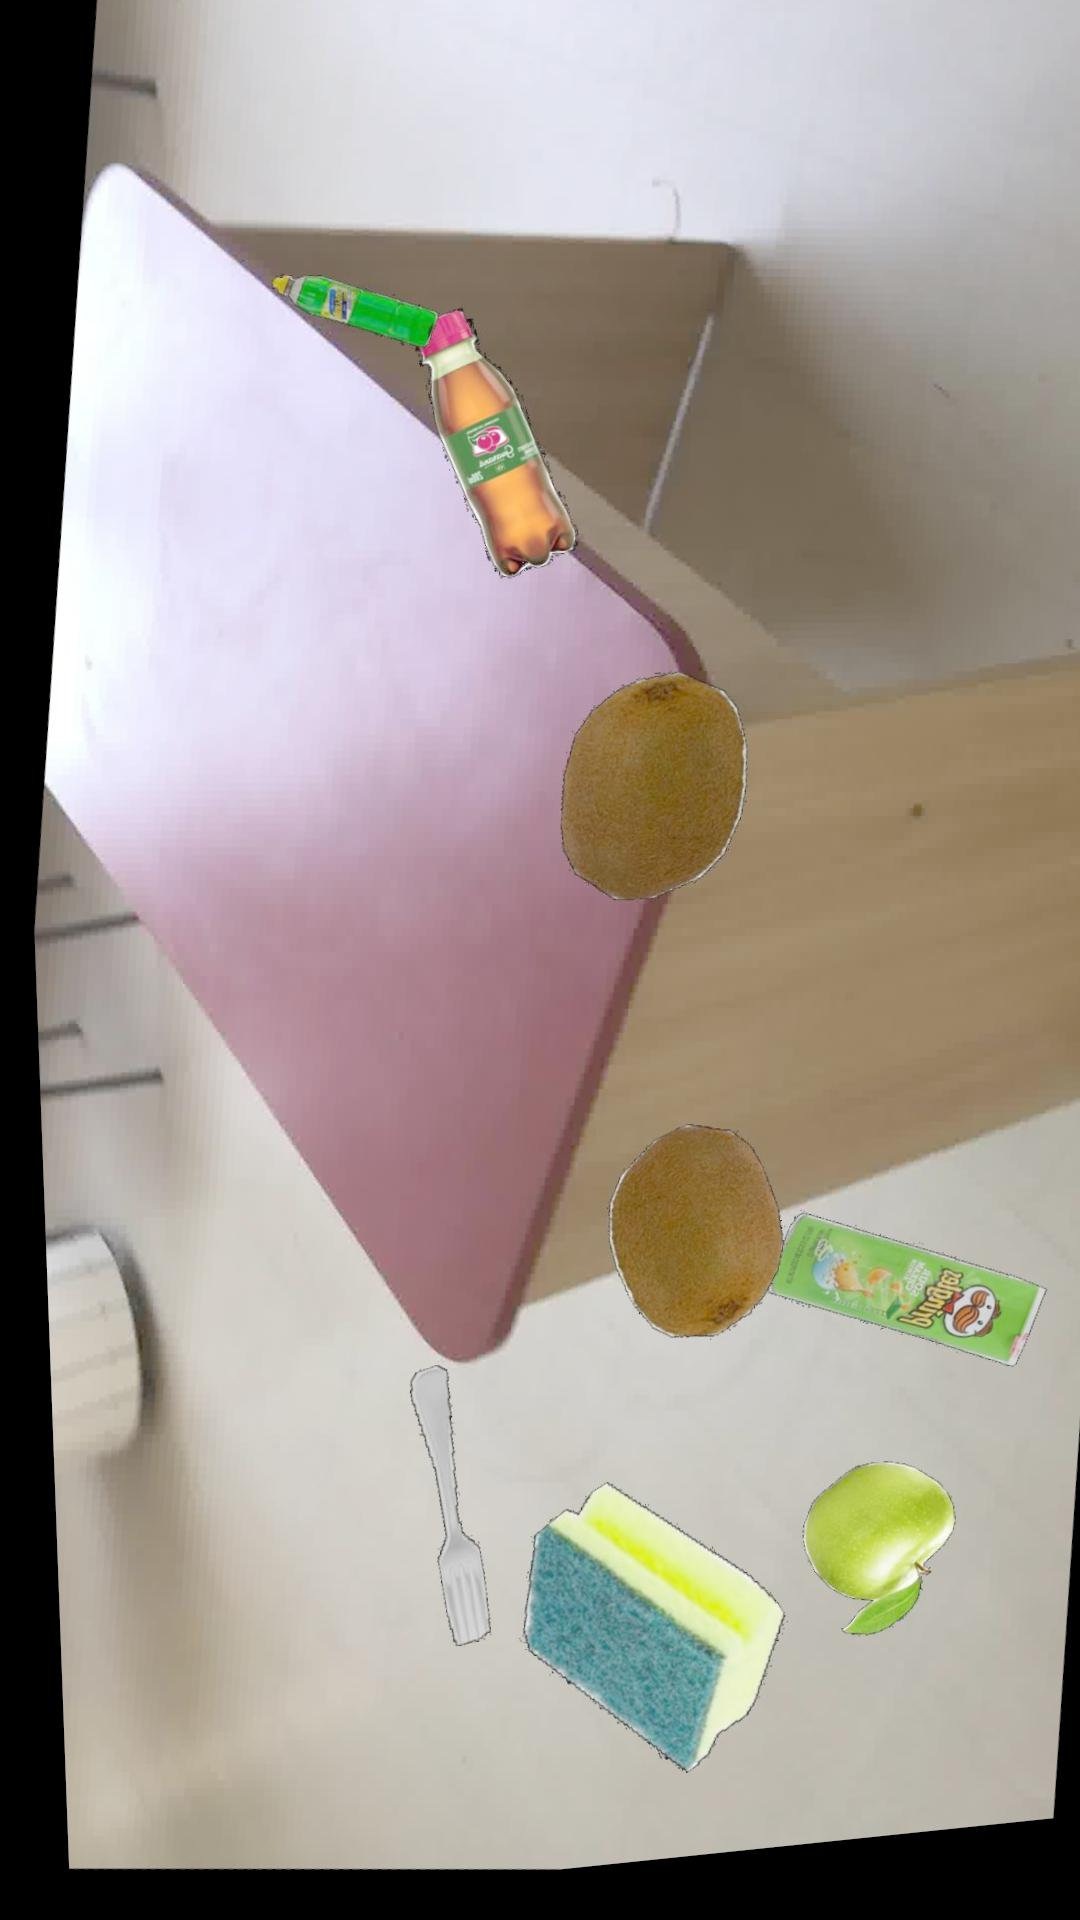cleaner: (272, 278, 436, 355)
fork: (400, 1373, 479, 1654)
green apple: (791, 1478, 944, 1651)
guarana: (414, 316, 575, 587)
kiwi: (555, 684, 742, 911), (600, 1137, 775, 1350)
pringles: (760, 1228, 1038, 1387)
sponge: (512, 1493, 773, 1785)
